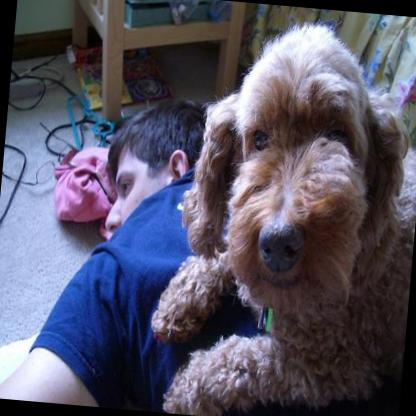miniature_poodle: (141, 5, 416, 416)
